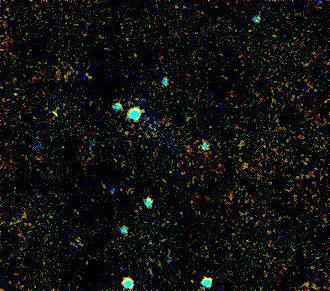star: (126, 99, 156, 129)
